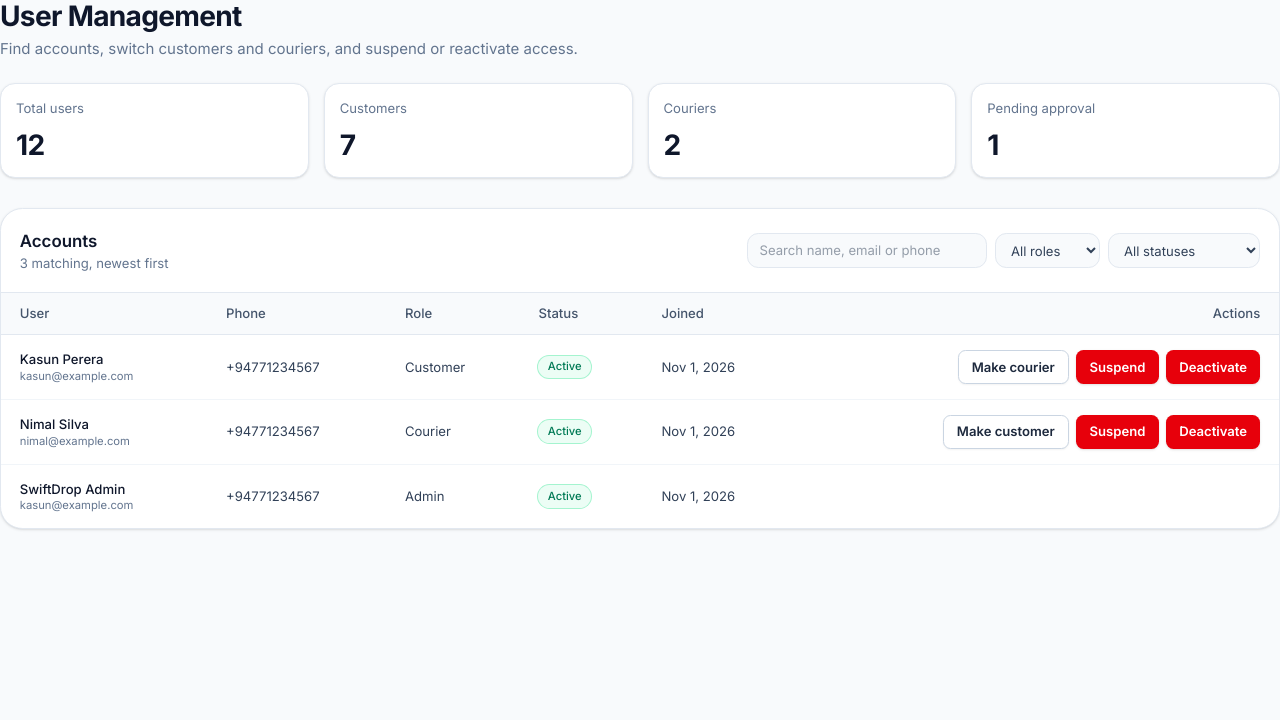
cancelling the confirmation changes nothing
The image size is (1280, 720).
Expected: the text "Kasun Perera" is shown, [20, 351, 104, 367]
Step 1. Click the button "Suspend" in the row of "Kasun Perera" → {"x": 1117, "y": 367}, box [1076, 350, 1158, 384]
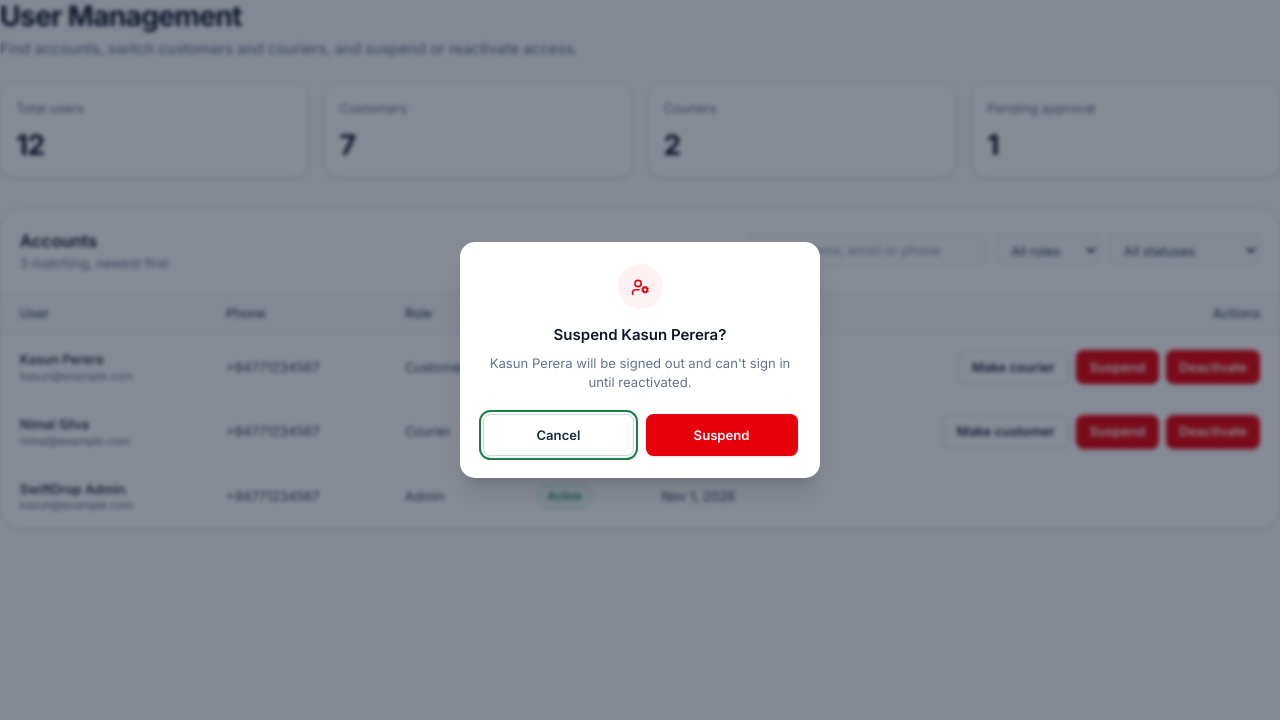
Step 2. Click the button "Cancel" → {"x": 558, "y": 435}, box [482, 414, 634, 456]
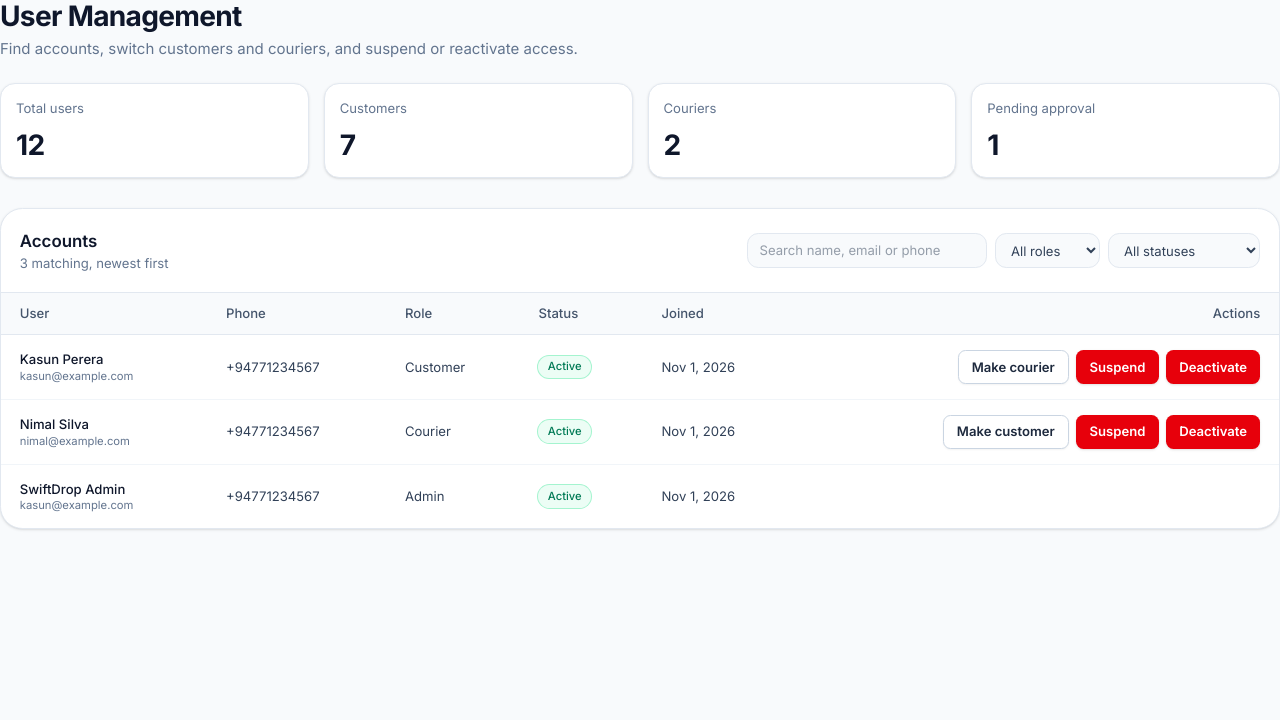
Now the dialog is gone
